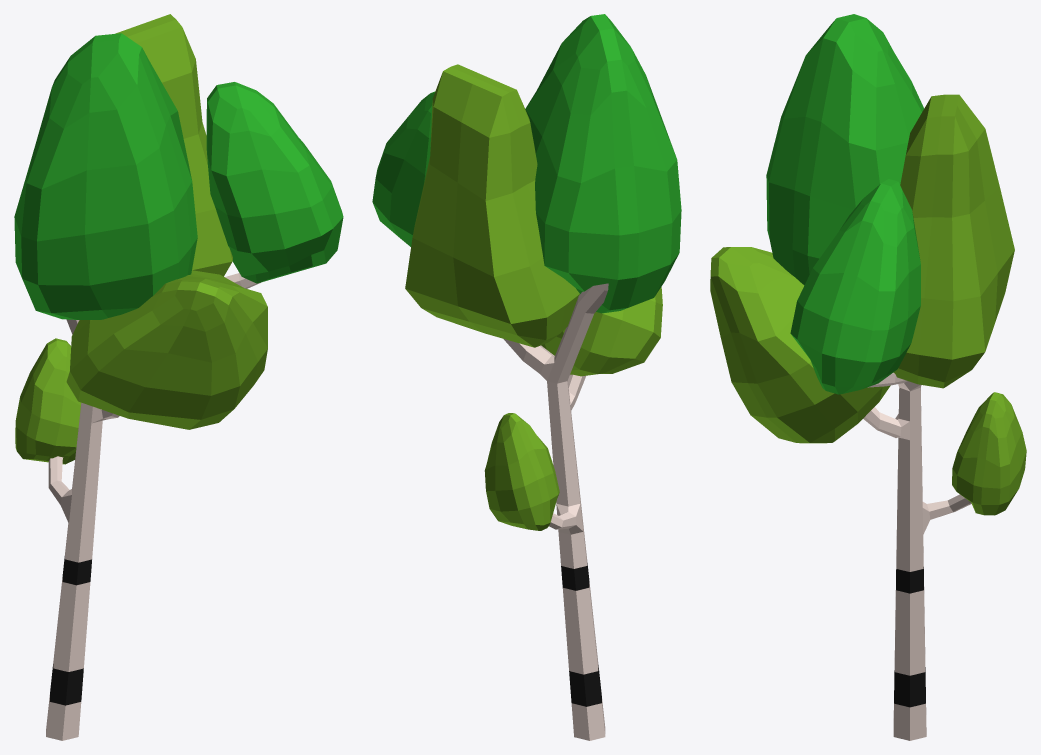
The model's file is Tree1.FBX.
3 views of the same model, side by side, from view 1: azimuth 30°, elevation 25°; view 2: azimuth 150°, elevation 25°; view 3: azimuth 270°, elevation 25° (orthographic). The views are drawn at different scales.
Visible parts, largest first — view 1: TreeTrunk; view 2: TreeTrunk; view 3: TreeTrunk.
Boxes of the visible parts, left/top/right/bottom form: TreeTrunk: left=14, top=14, right=343, bottom=740; TreeTrunk: left=372, top=14, right=681, bottom=740; TreeTrunk: left=710, top=14, right=1026, bottom=740.
Bounding box in the file's own units: 149 × 329 × 130.
